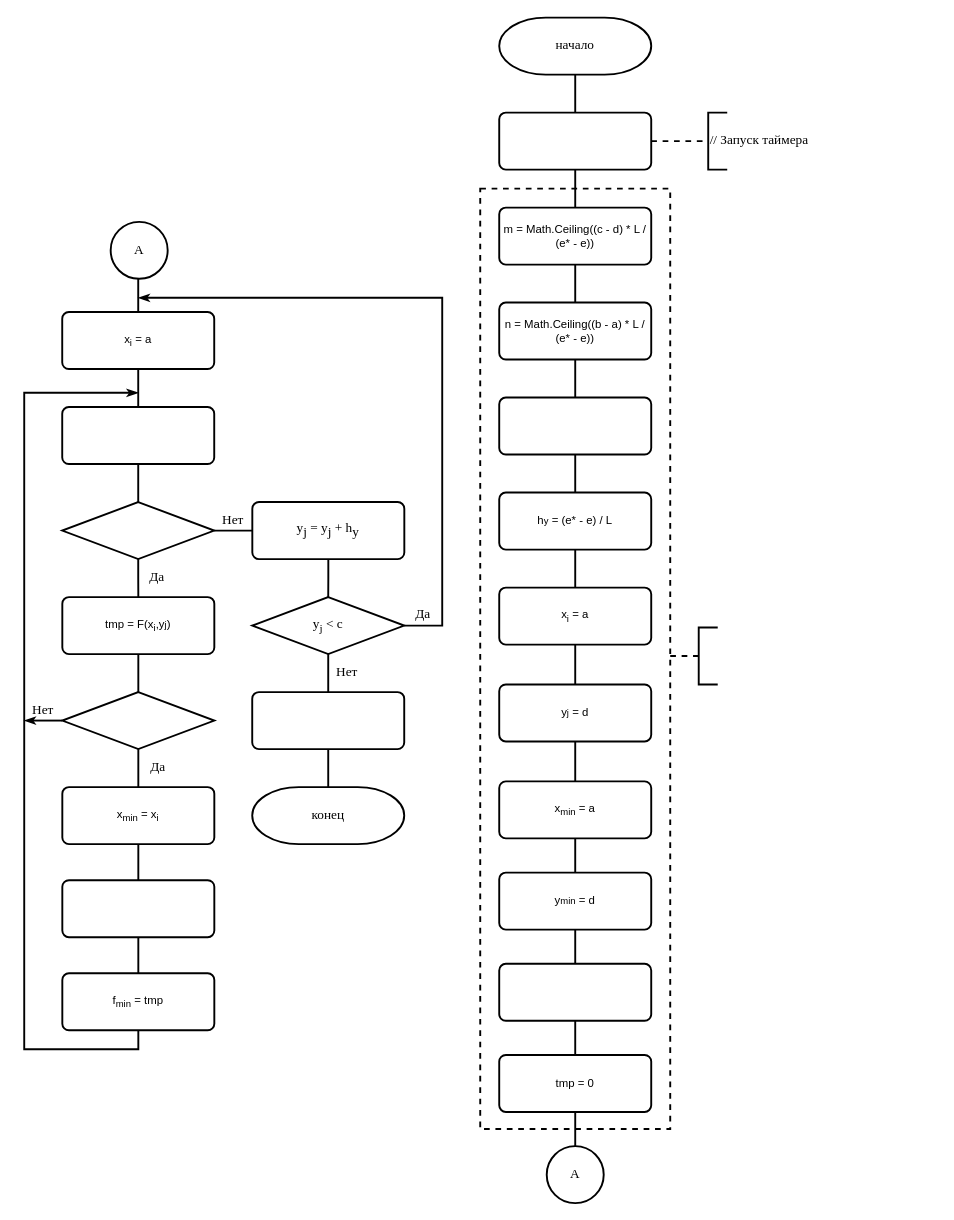
Image size: 954x1220. Some labels were removed from this diagram. The box of each missing label's shape, as (x1, y1, x2, y2) in pixels:
// Инициализация локальных переменных: (697, 626, 718, 685)
f min = F(x min ): (498, 962, 652, 1021)
h x = (e* - e) / L: (498, 396, 652, 455)
Stopwatch.Start(): (498, 111, 652, 170)
Stopwatch.Stop(): (251, 691, 405, 750)
tmp < f min: (61, 691, 215, 750)
x i < b: (61, 501, 215, 560)
x i = x i + h x: (61, 406, 215, 465)
y min = y j: (61, 879, 215, 938)
